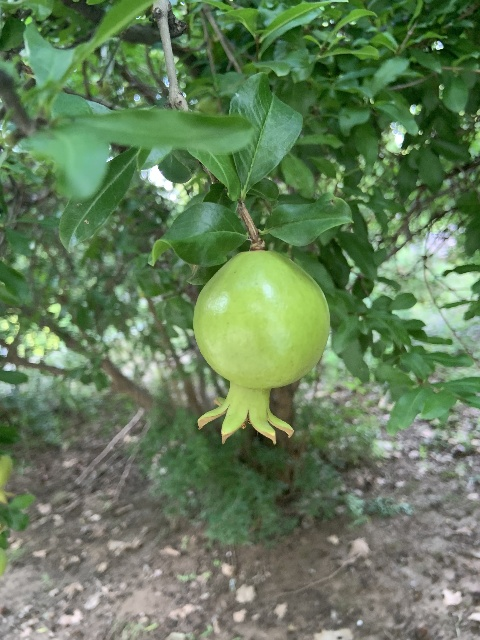mid-growth: (192, 249, 330, 446)
